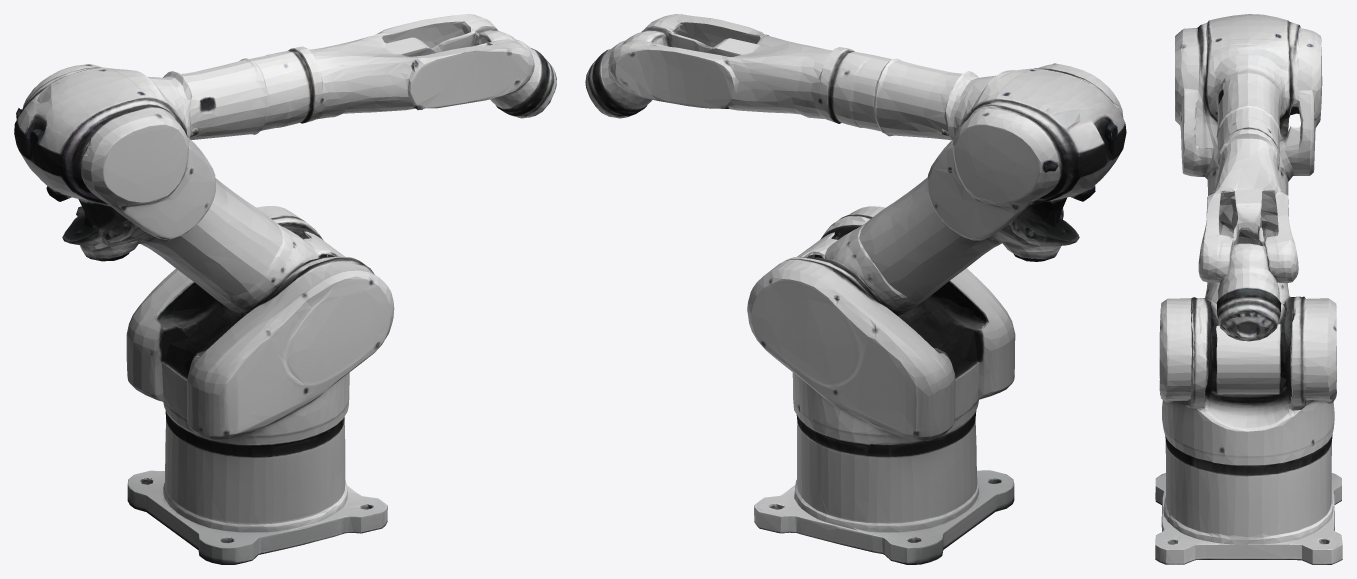
Rendered from robot_arm_6dof_white.glb.
3 views of the same model, side by side, from view 1: azimuth 30°, elevation 25°; view 2: azimuth 150°, elevation 25°; view 3: azimuth 270°, elevation 25° (orthographic). The views are drawn at different scales.
Visible parts, largest first — view 1: world; view 2: world; view 3: world.
Boxes of the visible parts, box(x1,y1,x2,y2) form: world: box(14, 14, 556, 564); world: box(585, 14, 1126, 564); world: box(1155, 14, 1342, 564).
Size of the model in its own units: 1 by 0.8567 by 0.3387.
Materials: 1 (1 with a texture image).
